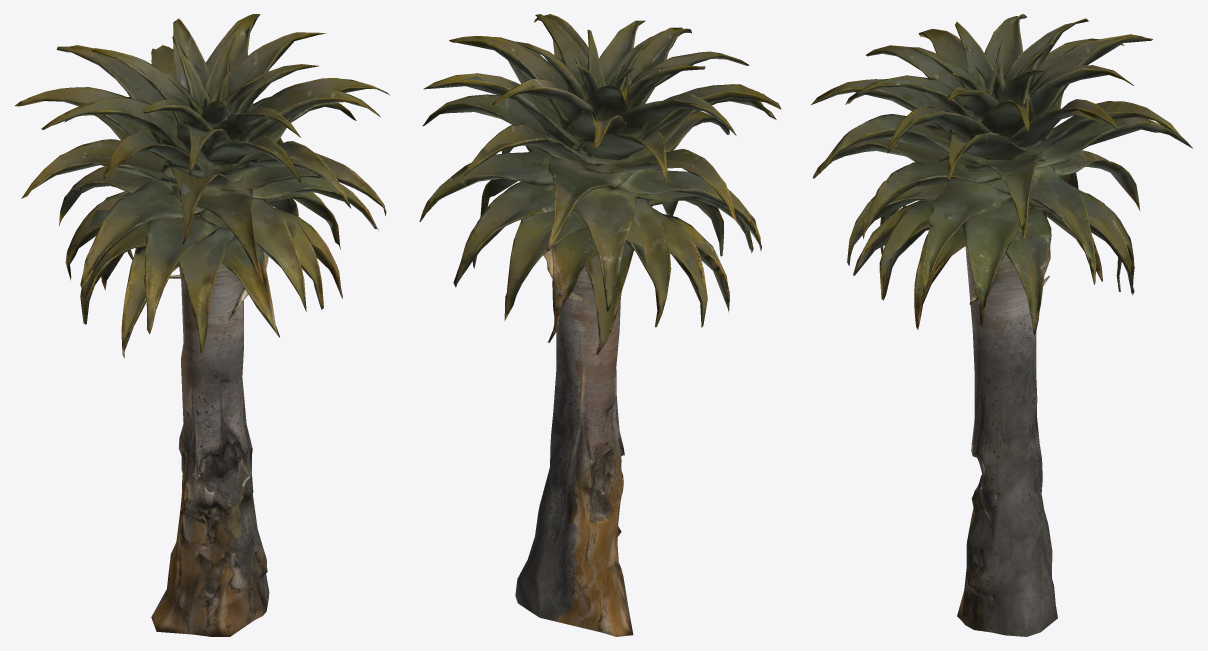
The model's file is quiver.glb.
3 renders of one model, left to right at view 1: azimuth 30°, elevation 25°; view 2: azimuth 150°, elevation 25°; view 3: azimuth 270°, elevation 25°, orthographic.
Parts seen in each view (by area): view 1: LOD0; view 2: LOD0; view 3: LOD0.
Boxes of the visible parts, left/top/right/bottom form: LOD0: left=15, top=14, right=389, bottom=636; LOD0: left=419, top=14, right=781, bottom=636; LOD0: left=811, top=14, right=1192, bottom=636.
Size of the model in its own units: 0.8653 by 1.47 by 0.8805.
Materials: 1 (1 with a texture image).
